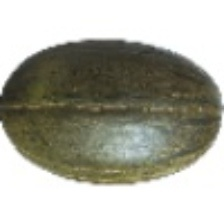honeydew: (15, 19, 165, 186)
